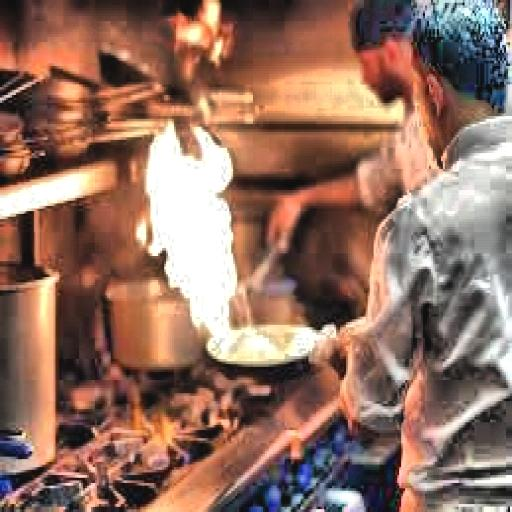fire: (126, 124, 278, 351)
